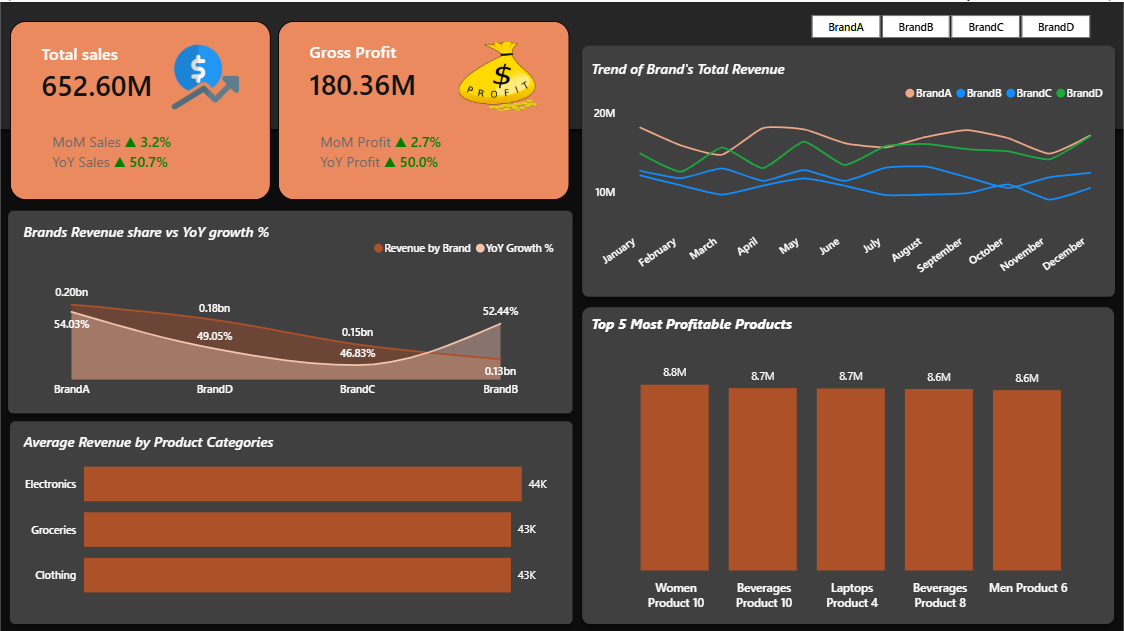

Layout of this report page (visuals, bound fields, positions):
{"tool":"powerbi","page":{"name":"💲 Brand Analysis","canvas":[1280,720],"ordinal":2},"visuals":[{"type":"lineChart","fields":{"Category":["Date.Year-Month.Variation.Date Hierarchy.Month"],"Y":["all measures.Total sales"],"Series":["Products.Brand"]},"box":[668.7,84.3,597,244.9],"z":0},{"type":"areaChart","fields":{"Y":["all measures.Revenue by Brand"],"Category":["Products.Brand"],"Y2":["all measures.YoY Growth %"]},"box":[11.4,260.9,628.9,198.2],"z":1000},{"type":"clusteredColumnChart","fields":{"Y":["Viz measures.Top 5 products"],"Category":["Products.Product Name"]},"box":[668.7,397.6,587.8,303],"z":2000},{"type":"barChart","fields":{"Y":["all measures.Avg Sales"],"Category":["Products.Category"]},"box":[21.6,495.6,618.6,205.1],"z":3000},{"type":"slicer","fields":{"Values":["Products.Brand"]},"box":[898.9,8,366.8,39.9],"z":4000},{"type":"cardVisual","fields":{"Data":["all measures.Total sales"]},"box":[11.4,21.6,297.3,203.9],"z":5000},{"type":"cardVisual","fields":{"Data":["all measures.Gross Profit"]},"box":[316.7,21.6,331.5,203.9],"z":6000},{"type":"textbox","box":[668.7,350.9,459.1,46.7],"z":7000},{"type":"textbox","box":[21.6,246.1,378.2,43.3],"z":8000},{"type":"textbox","box":[21.6,485.3,378.2,33],"z":9000},{"type":"textbox","box":[668.7,60.4,293.9,39.9],"z":10000}]}

Visuals, with their boxes in screenshot pixels (x1, y1, x2, y2), scaled from the page's 1280x720 canvas onto the 1124x631 screenshot:
lineChart - Date.Year-Month.Variation.Date Hierarchy.Month x all measures.Total sales: crop(587, 74, 1111, 289)
areaChart - all measures.Revenue by Brand x Products.Brand: crop(10, 229, 562, 402)
clusteredColumnChart - Viz measures.Top 5 products x Products.Product Name: crop(587, 348, 1103, 614)
barChart - all measures.Avg Sales x Products.Category: crop(19, 434, 562, 614)
slicer - Products.Brand: crop(789, 7, 1111, 42)
cardVisual - all measures.Total sales: crop(10, 19, 271, 198)
cardVisual - all measures.Gross Profit: crop(278, 19, 569, 198)
textbox: crop(587, 308, 990, 348)
textbox: crop(19, 216, 351, 254)
textbox: crop(19, 425, 351, 454)
textbox: crop(587, 53, 845, 88)
